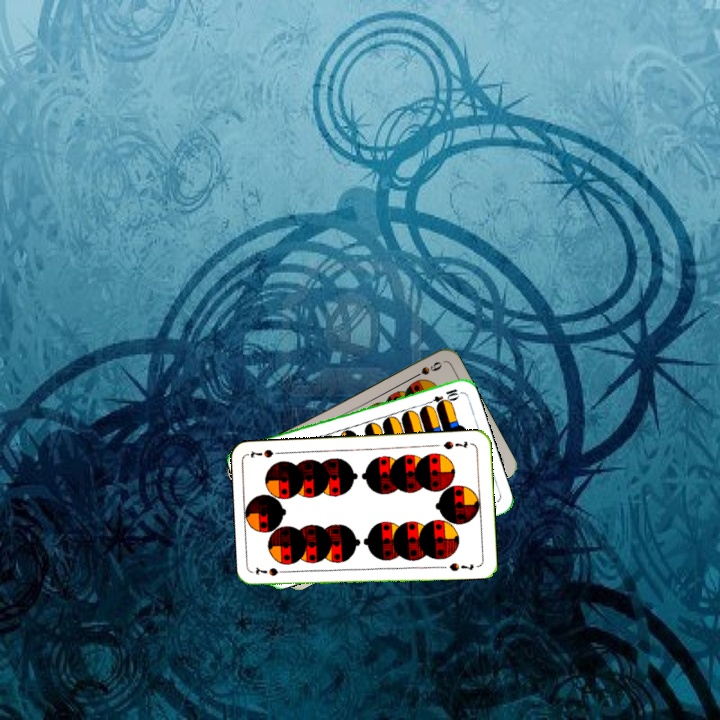E10: (422, 384, 461, 408)
S7: (252, 564, 292, 579), (440, 437, 470, 452)
S9: (407, 357, 445, 382)
